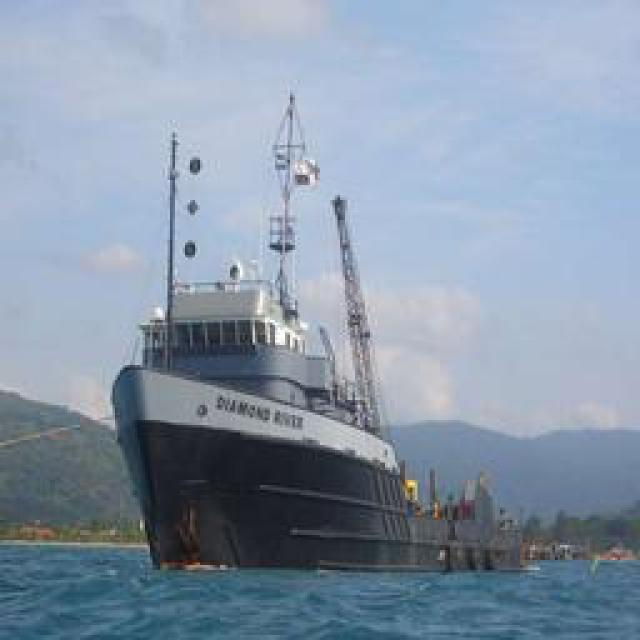Ship: (109, 81, 432, 574)
